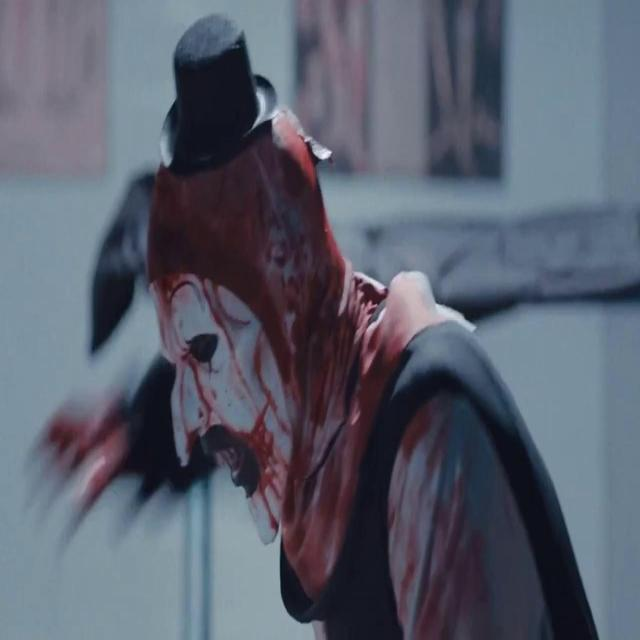flood: (157, 200, 370, 574), (404, 433, 486, 640)
